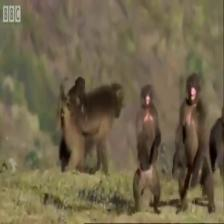monkey: (183, 70, 204, 109), (110, 80, 128, 118), (140, 86, 156, 108), (74, 71, 88, 91)
